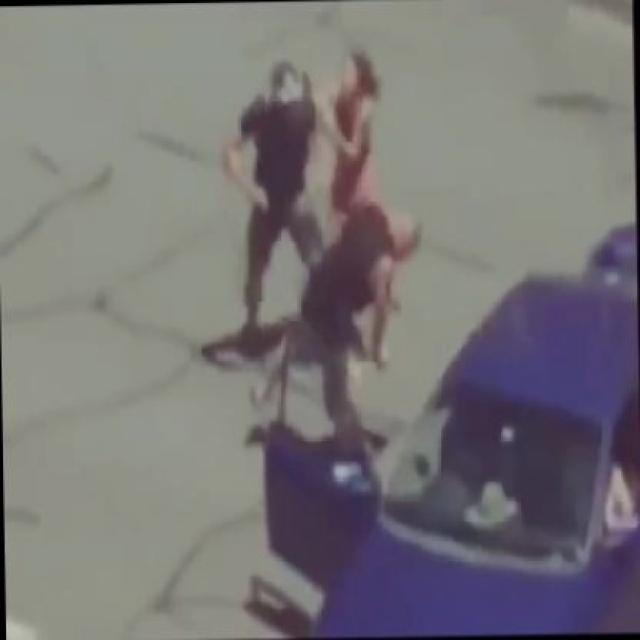fight: (188, 31, 442, 409)
